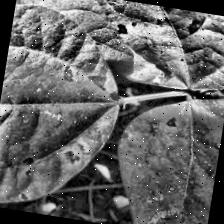ALS: (0, 15, 131, 220), (56, 0, 224, 99), (108, 90, 224, 224)
